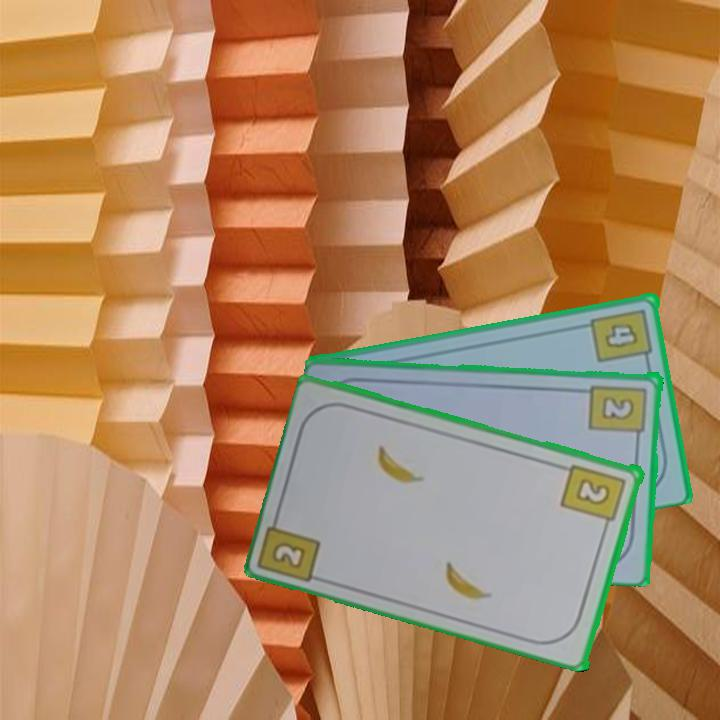2b: (558, 460, 629, 533), (587, 380, 650, 444), (272, 540, 309, 572)
4b: (588, 305, 656, 367)
